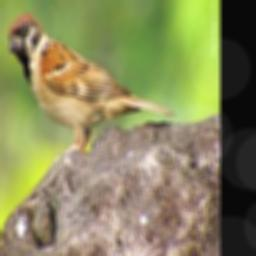Sparrow: (1, 7, 177, 160)
